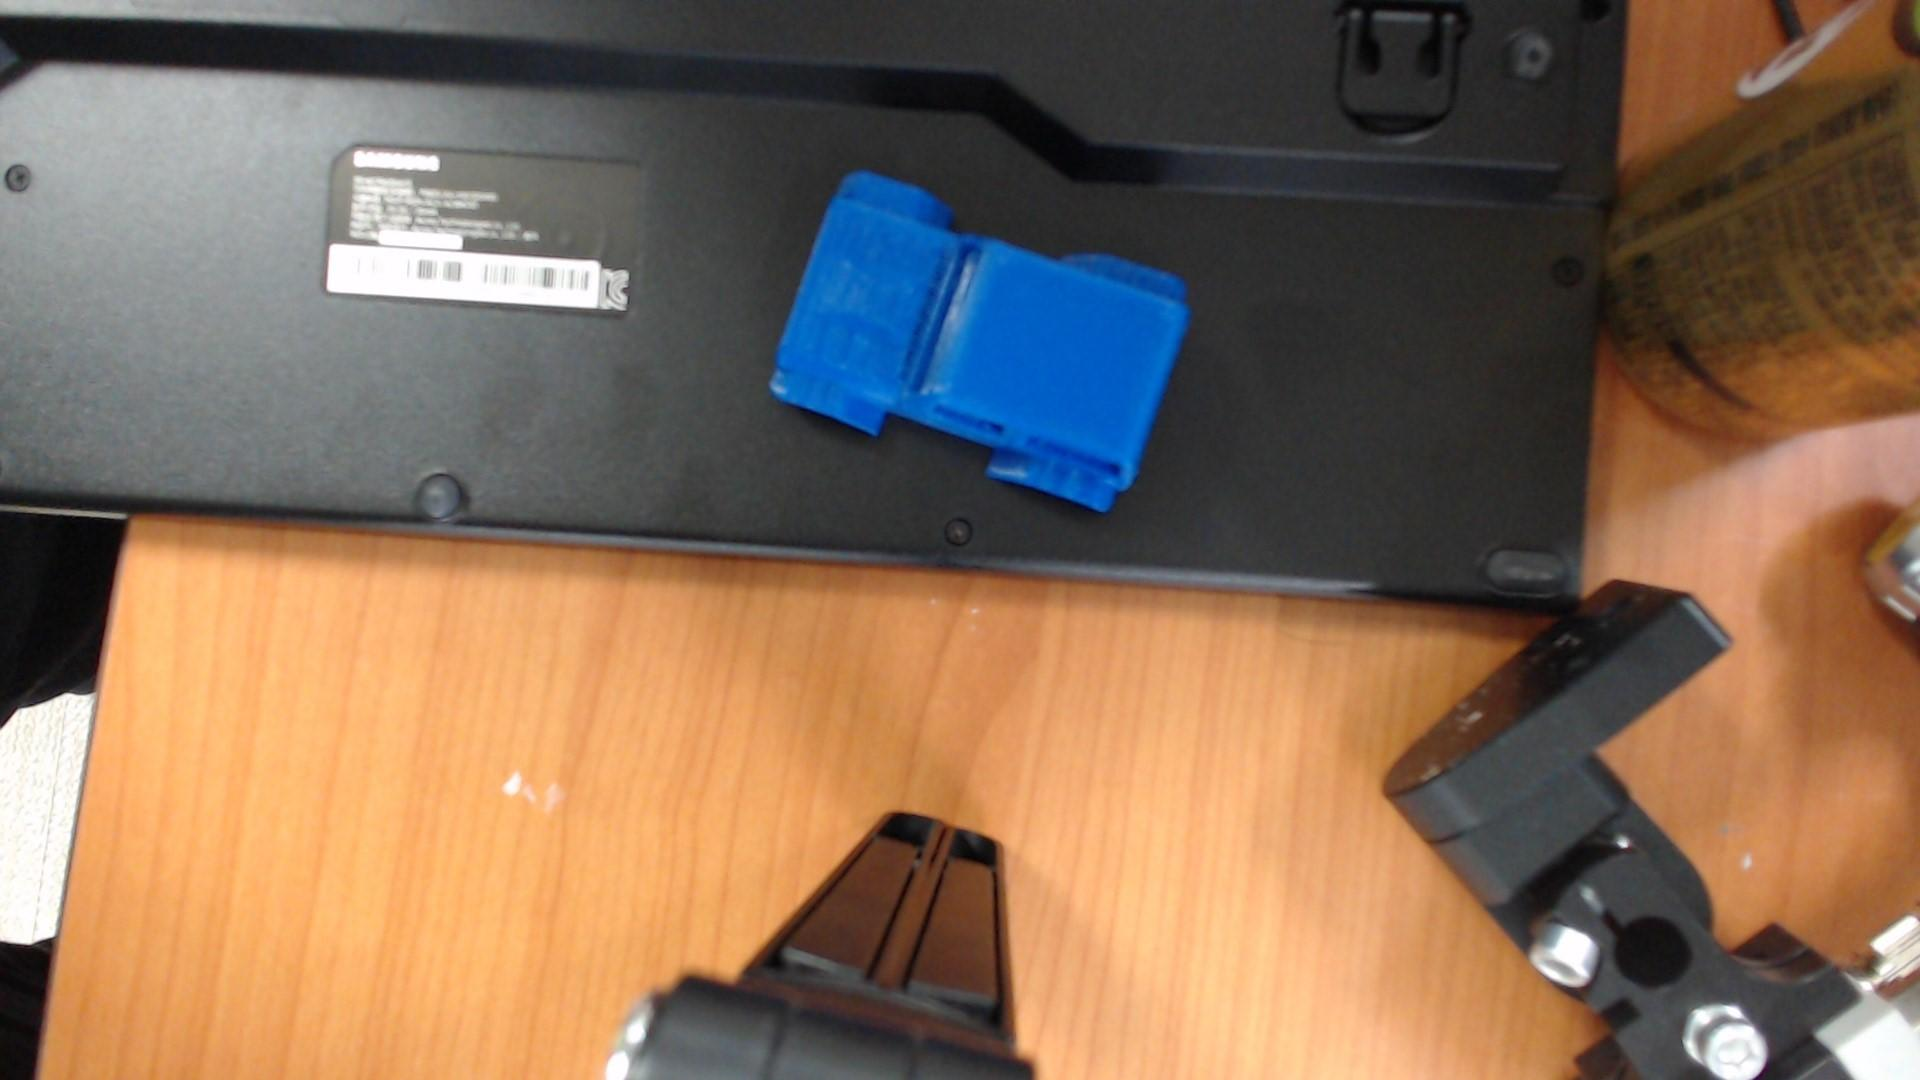Upper_ng: (769, 171, 1189, 512)
